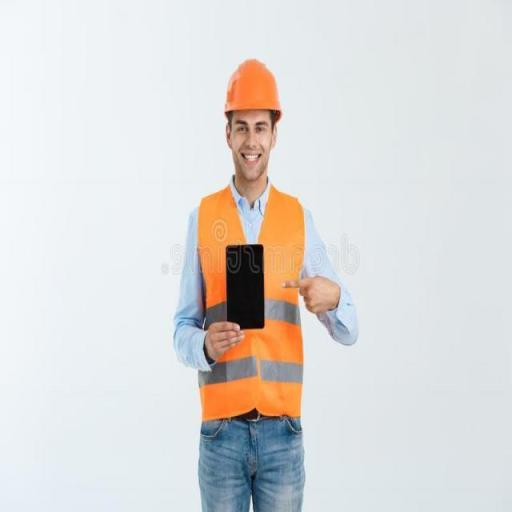helmet: (221, 54, 285, 121)
vest: (194, 187, 312, 425)
